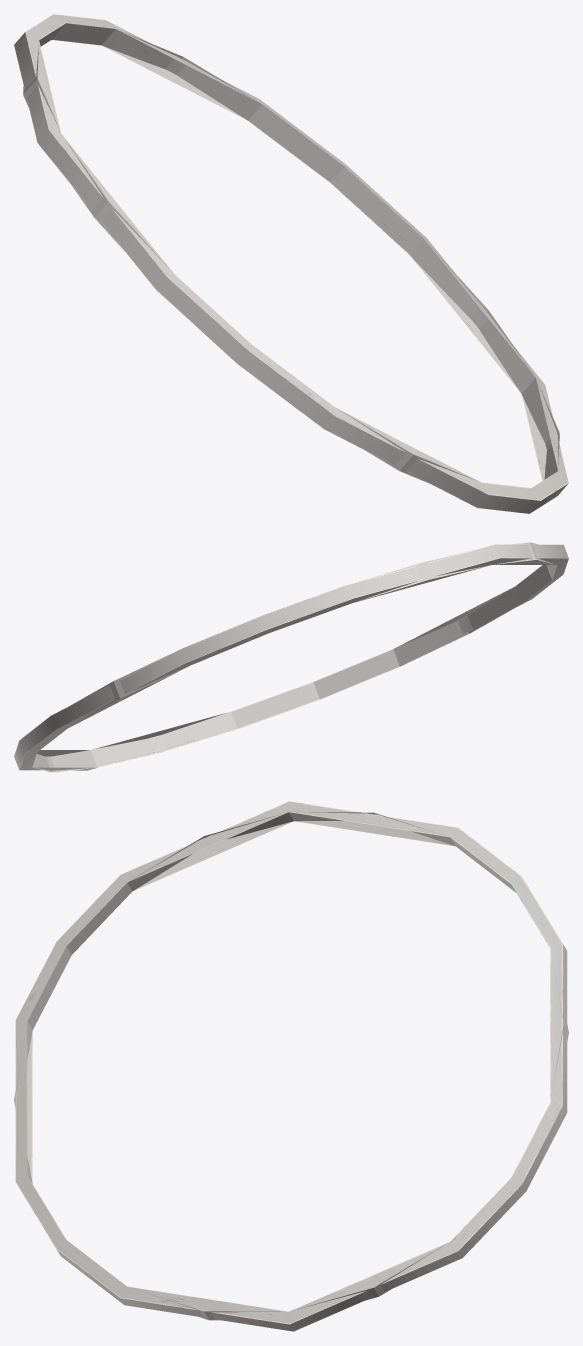
Rendered from small_InnerRing004CelestialPrism_lowPoly.glb.
The picture shows the model from 3 angles, top to bottom: view 1: azimuth 30°, elevation 25°; view 2: azimuth 150°, elevation 25°; view 3: azimuth 270°, elevation 25°; orthographic projection. The views are drawn at different scales.
Parts seen in each view (by area): view 1: polySurface1; view 2: polySurface1; view 3: polySurface1.
Part boxes in pixels (x1,y1,x2,y2): polySurface1: [14, 14, 568, 513]; polySurface1: [14, 542, 568, 772]; polySurface1: [14, 801, 568, 1331].
Size of the model in its own units: 0.963 by 0.7306 by 1.08.
Materials: 1 (1 with a texture image).
